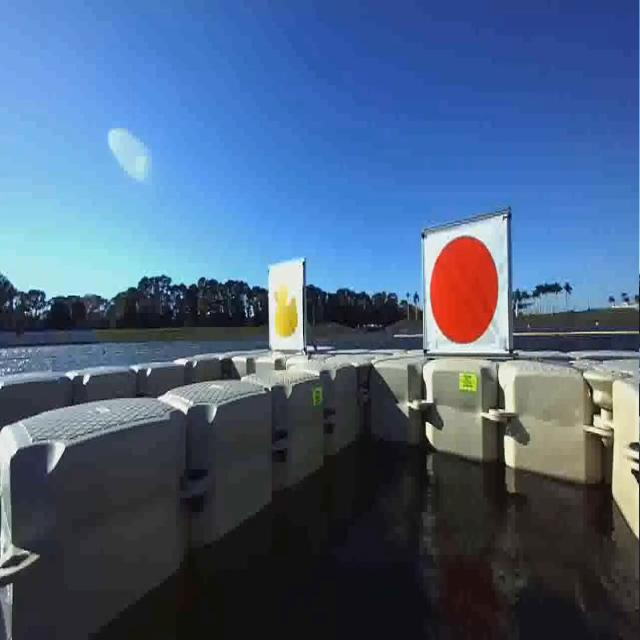red-dot: (424, 233, 506, 350)
yellow-duck: (268, 268, 304, 355)
